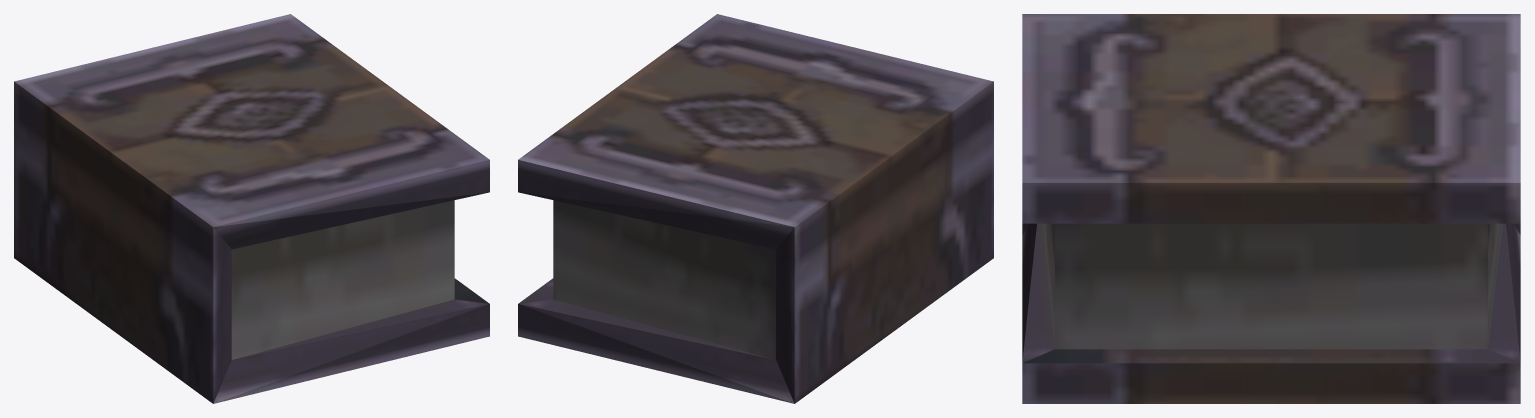
File: crypt_book01.fbx
3 renders of one model, left to right at view 1: azimuth 30°, elevation 25°; view 2: azimuth 150°, elevation 25°; view 3: azimuth 270°, elevation 25°, orthographic. The views are drawn at different scales.
Visible parts, largest first — view 1: obj0.054; view 2: obj0.054; view 3: obj0.054.
Part boxes in pixels (left/top/right/bottom): obj0.054: left=14, top=14, right=489, bottom=403; obj0.054: left=518, top=14, right=993, bottom=403; obj0.054: left=1022, top=14, right=1520, bottom=403.
Size of the model in its own units: 0.4736 by 0.289 by 0.5905.
